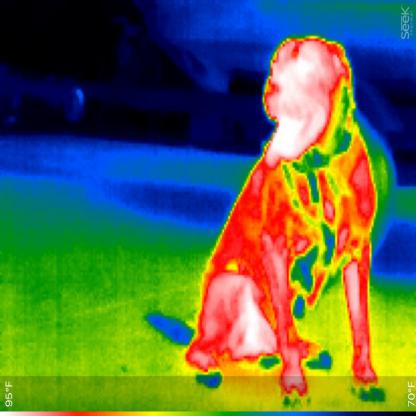dog: (183, 33, 383, 399)
